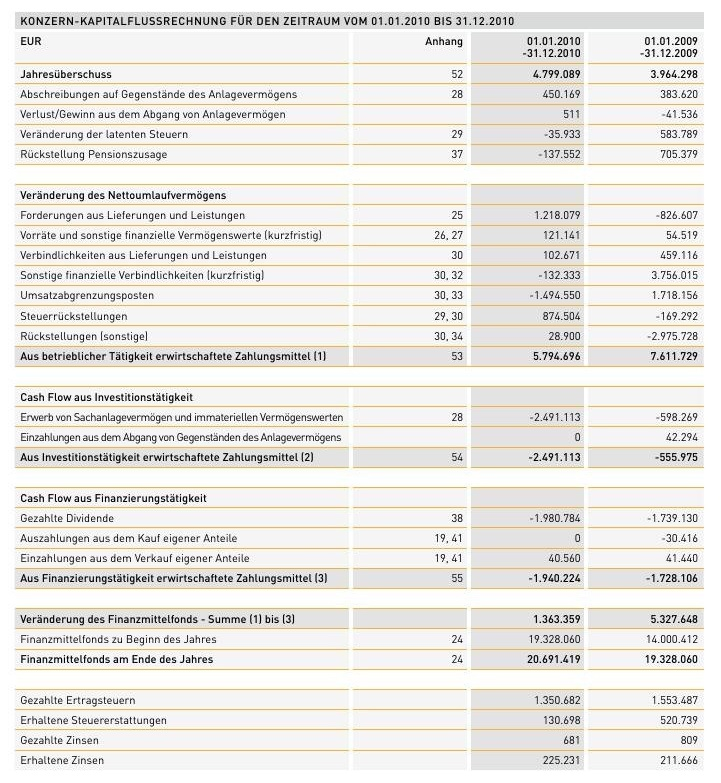table: (0, 0, 721, 783)
